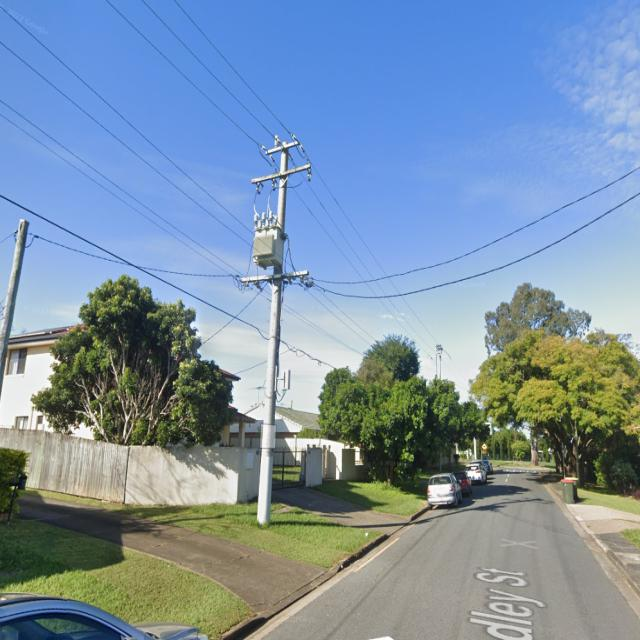HV-switch: (436, 343, 443, 352)
HV-transmission: (250, 133, 312, 196)
concrete-pole: (256, 141, 289, 527)
crossarm: (252, 163, 312, 184), (240, 270, 308, 282), (265, 140, 299, 156), (429, 355, 449, 358)
timber-pole: (0, 218, 30, 400), (438, 352, 441, 380)
transformer: (250, 210, 283, 265)
